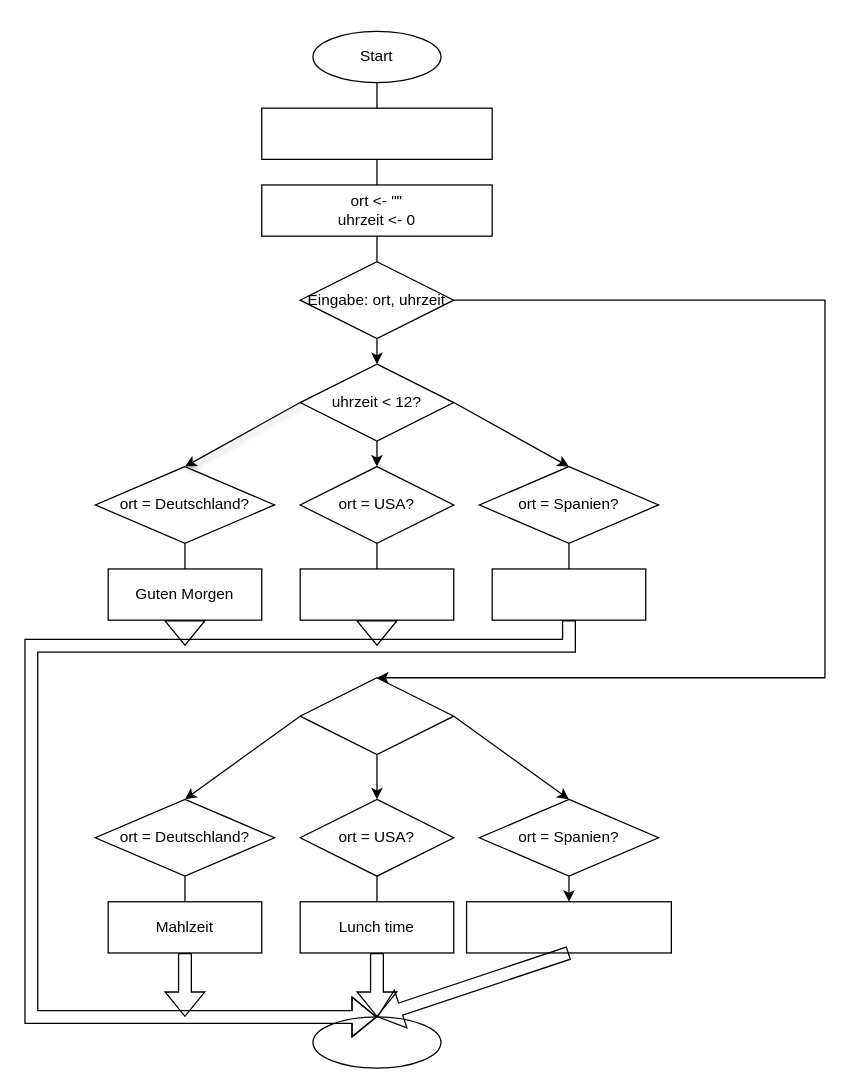
Image size: 858x1091. Some labels were removed from this diagram. Here are the shapes that lost their labels. From the top down, the centre of each, then its label:
the point at 376,133: Ausgabe: "Ort eingeben"
the point at 376,594: Mornin'
the point at 568,594: Buenos dias
the point at 376,715: uhrzeit == 12?
the point at 568,926: Tiempo para la siesta!
the point at 376,1042: Stop
